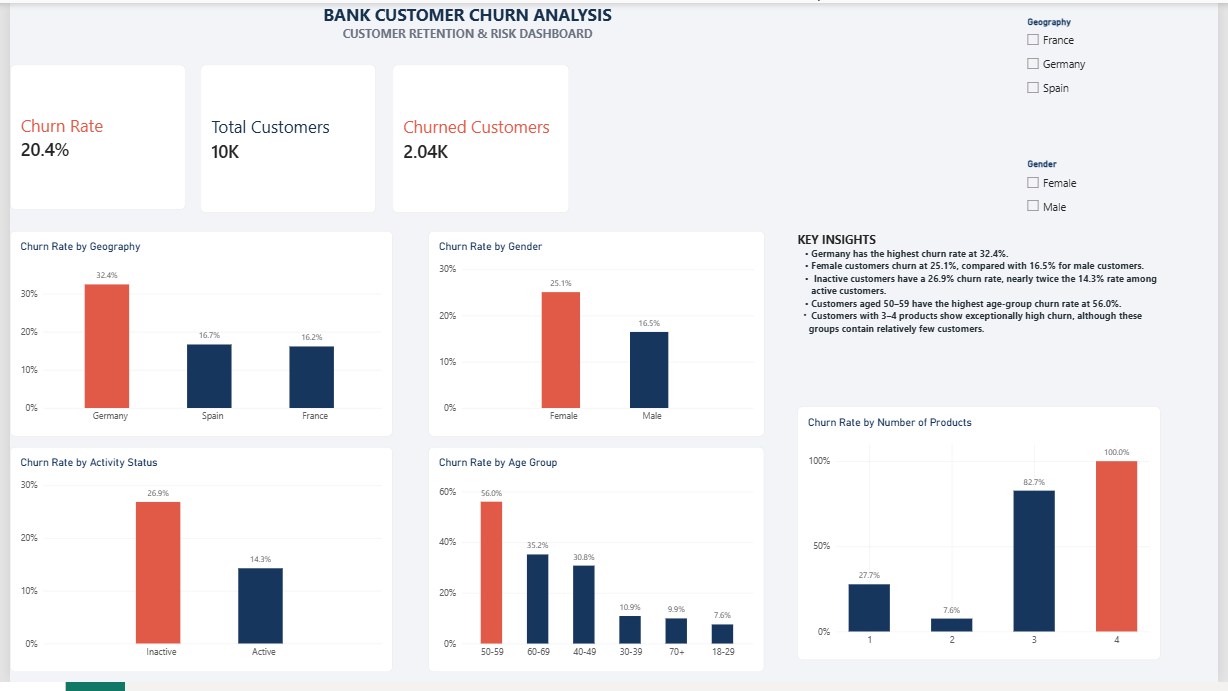

What the dashboard file says about the page in this screenshot:
{"tool":"powerbi","page":{"name":"Page 1","canvas":[1920,1080],"ordinal":0},"visuals":[{"type":"cardVisual","fields":{"Data":["Churn_Modelling.Churn Rate"]},"box":[0,97.8,279.2,231.4],"z":0},{"type":"cardVisual","fields":{"Data":["Churn_Modelling.Churned Customers"]},"box":[608.4,97.8,281.5,236.2],"z":1000},{"type":"cardVisual","fields":{"Data":["Churn_Modelling.Total Customers"]},"box":[303,97.8,279.2,236.2],"z":2000},{"type":"clusteredColumnChart","title":"Churn Rate by Geography","fields":{"Category":["Churn_Modelling.Geography"],"Y":["Churn_Modelling.Churn Rate"]},"box":[0,362.7,608.4,326.9],"z":3000},{"type":"clusteredColumnChart","title":"Churn Rate by Activity Status","fields":{"Category":["Churn_Modelling.Activity Status"],"Y":["Churn_Modelling.Churn Rate"]},"box":[0,706.2,608.4,357.9],"z":4000},{"type":"clusteredColumnChart","title":"Churn Rate by Gender","fields":{"Category":["Churn_Modelling.Gender"],"Y":["Churn_Modelling.Churn Rate"]},"box":[665.7,362.7,534.4,326.9],"z":5000},{"type":"clusteredColumnChart","title":"Churn Rate by Age Group","fields":{"Category":["Churn_Modelling.Age Group"],"Y":["Churn_Modelling.Churn Rate"]},"box":[665.7,706.2,534,358],"z":6000},{"type":"slicer","fields":{"Values":["Churn_Modelling.Geography"]},"box":[1610.5,21.5,281.5,167],"z":7000},{"type":"slicer","fields":{"Values":["Churn_Modelling.Gender"]},"box":[1610.5,248.1,281.5,171.8],"z":8000},{"type":"clusteredColumnChart","title":"Churn Rate by Number of Products","fields":{"Category":["Churn_Modelling.NumOfProducts"],"Y":["Churn_Modelling.Churn Rate"]},"box":[1252.6,641.8,577.4,403.2],"z":9000},{"type":"textbox","box":[78.7,0,1297.9,71.6],"z":10000},{"type":"textbox","box":[1252.6,362.7,598.9,229],"z":11000}]}

Visuals, with their boxes in screenshot pixels (x1, y1, x2, y2), scaled from the page's 1920x1080 canvas onto the 1228x691 screenshot:
cardVisual - Churn_Modelling.Churn Rate: bbox=[0, 63, 179, 211]
cardVisual - Churn_Modelling.Churned Customers: bbox=[389, 63, 569, 214]
cardVisual - Churn_Modelling.Total Customers: bbox=[194, 63, 372, 214]
"Churn Rate by Geography" clusteredColumnChart: bbox=[0, 232, 389, 441]
"Churn Rate by Activity Status" clusteredColumnChart: bbox=[0, 452, 389, 681]
"Churn Rate by Gender" clusteredColumnChart: bbox=[426, 232, 768, 441]
"Churn Rate by Age Group" clusteredColumnChart: bbox=[426, 452, 767, 681]
slicer - Churn_Modelling.Geography: bbox=[1030, 14, 1210, 121]
slicer - Churn_Modelling.Gender: bbox=[1030, 159, 1210, 269]
"Churn Rate by Number of Products" clusteredColumnChart: bbox=[801, 411, 1170, 669]
textbox: bbox=[50, 0, 880, 46]
textbox: bbox=[801, 232, 1184, 379]
